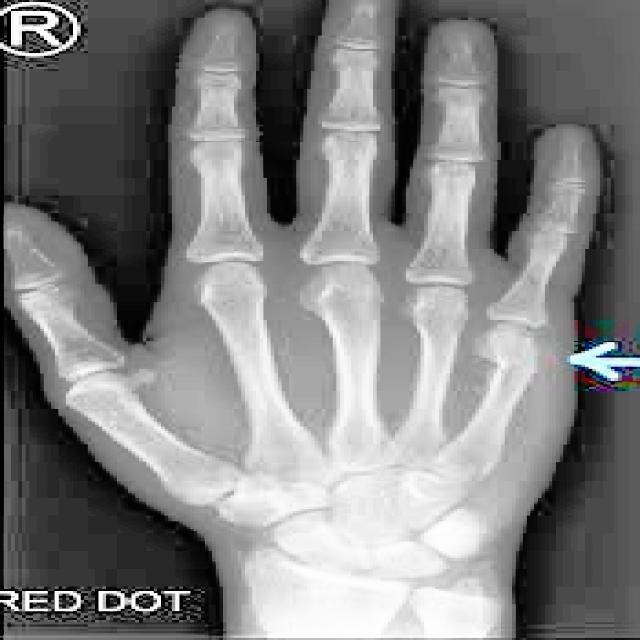Comminuted Fracture: (482, 328, 546, 383)
